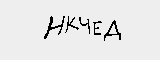Д: (105, 19, 124, 42)
Е: (90, 17, 103, 40)
К: (64, 15, 78, 36)
Н: (44, 12, 66, 39)
Ч: (78, 15, 90, 35)
